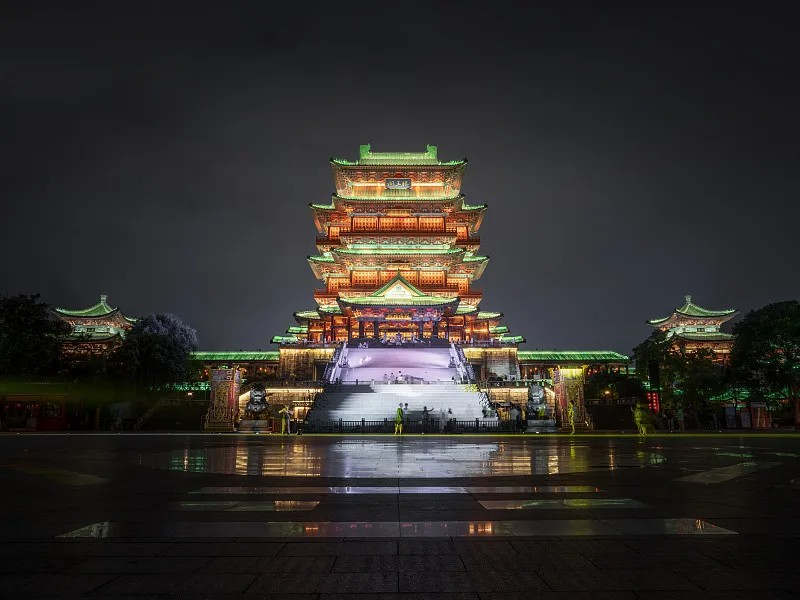Teng: (270, 144, 527, 351)
